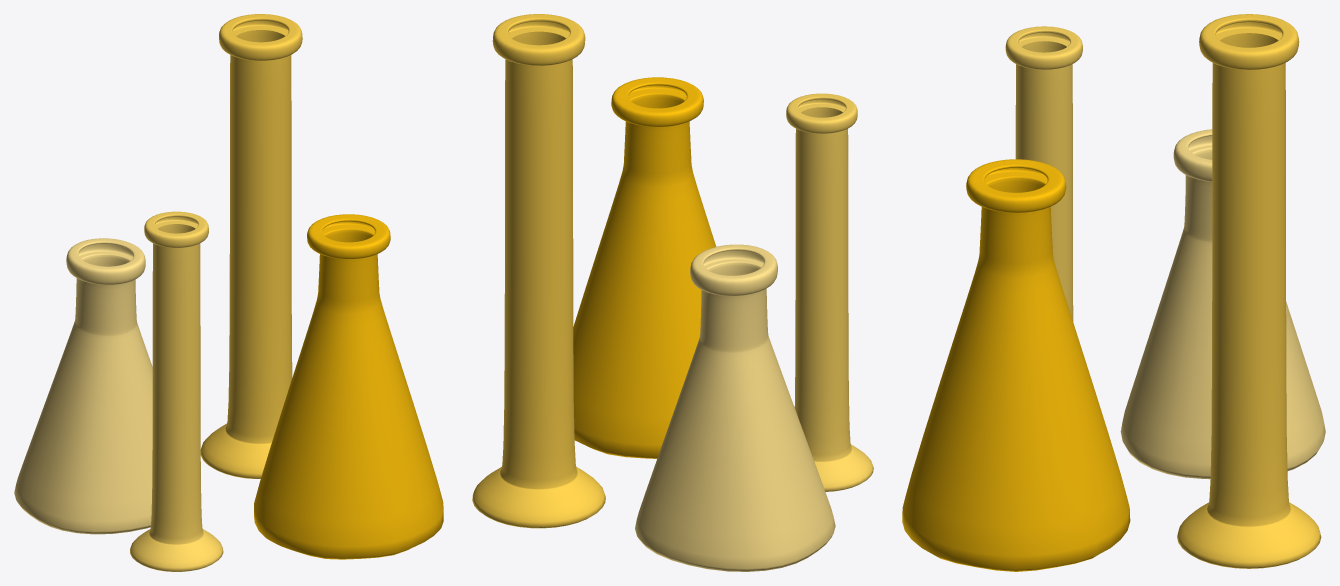
Rendered from Beaker_Group3.glb.
The picture shows the model from 3 angles, left to right: view 1: azimuth 30°, elevation 25°; view 2: azimuth 150°, elevation 25°; view 3: azimuth 270°, elevation 25°; orthographic projection. The views are drawn at different scales.
Parts seen in each view (by area): view 1: pCylinder6, pCylinder5, pCylinder1, pCylinder4; view 2: pCylinder1, pCylinder5, pCylinder6, pCylinder4; view 3: pCylinder6, pCylinder5, pCylinder1, pCylinder4.
Boxes of the visible parts, bbox=[...] form: pCylinder6: bbox=[254, 214, 443, 559]; pCylinder5: bbox=[200, 14, 302, 478]; pCylinder1: bbox=[14, 238, 152, 534]; pCylinder4: bbox=[130, 211, 223, 571]; pCylinder1: bbox=[635, 244, 835, 571]; pCylinder5: bbox=[472, 14, 605, 528]; pCylinder6: bbox=[573, 77, 716, 458]; pCylinder4: bbox=[786, 93, 873, 491]; pCylinder6: bbox=[902, 159, 1130, 571]; pCylinder5: bbox=[1177, 14, 1321, 568]; pCylinder1: bbox=[1120, 129, 1325, 479]; pCylinder4: bbox=[1005, 26, 1082, 321].
Size of the model in its own units: 1.3 by 1.69 by 1.27.
